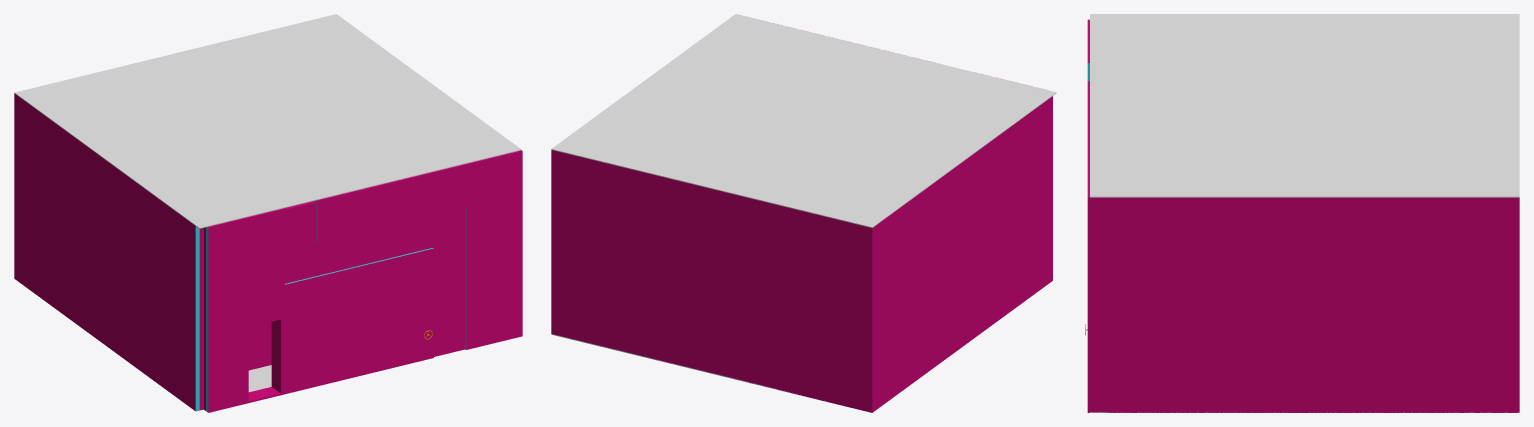
File: Power_Plant_Interior.fbx
The picture shows the model from 3 angles, left to right: view 1: azimuth 30°, elevation 25°; view 2: azimuth 150°, elevation 25°; view 3: azimuth 270°, elevation 25°; orthographic projection. The views are drawn at different scales.
Parts seen in each view (by area): view 1: Cube.004, Cube.005, Cube.002, Cube.026, Cube.027, Cube.029, Cube.007; view 2: Cube.004, Cube.003, Cube.002, Cube.000, Cube.030, Cube.026; view 3: Cube.000, Cube.004, Cube.005.
Part boxes in pixels (<box>): Cube.004: <box>14,14,521,228</box>; Cube.005: <box>271,150,522,395</box>; Cube.002: <box>14,97,190,407</box>; Cube.026: <box>191,217,248,412</box>; Cube.027: <box>248,209,280,326</box>; Cube.029: <box>248,322,271,370</box>; Cube.007: <box>248,365,271,392</box>; Cube.004: <box>551,14,1056,227</box>; Cube.003: <box>567,154,876,412</box>; Cube.002: <box>864,99,1048,412</box>; Cube.000: <box>551,150,567,337</box>; Cube.030: <box>695,185,711,341</box>; Cube.026: <box>1048,96,1052,283</box>; Cube.000: <box>1109,197,1519,412</box>; Cube.004: <box>1090,14,1519,197</box>; Cube.005: <box>1087,60,1109,412</box>.
Size of the model in its own units: 4000 by 2210 by 4023.
